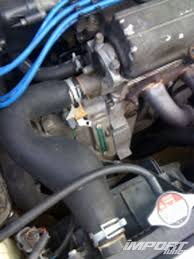radiator_hose: (1, 80, 127, 235)
